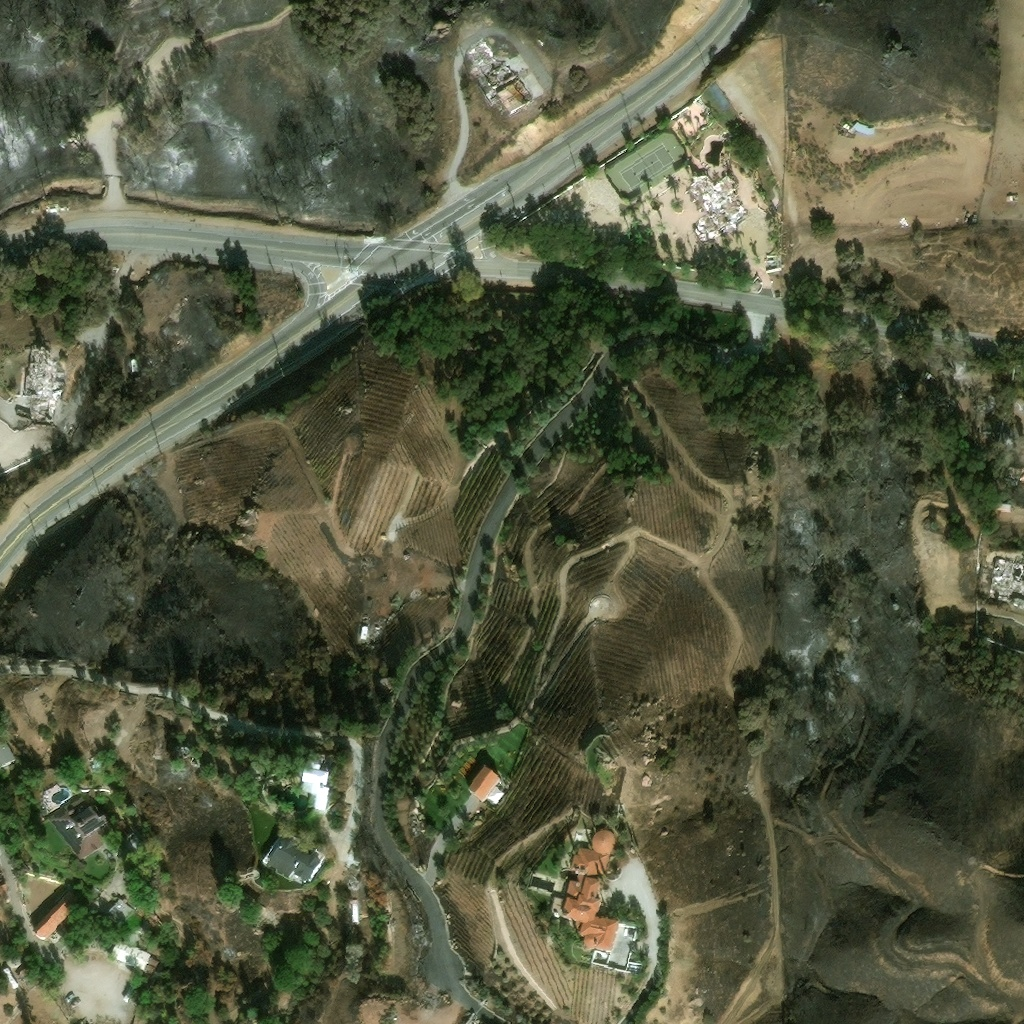0 no-damage: (561, 844, 618, 950), (47, 792, 117, 859), (257, 829, 327, 887), (32, 892, 79, 940), (110, 938, 158, 973), (465, 761, 504, 802), (301, 763, 330, 809), (105, 897, 134, 920), (591, 828, 614, 852), (54, 423, 75, 444), (0, 966, 19, 989), (0, 739, 15, 767), (346, 898, 362, 921), (4, 952, 22, 970), (850, 121, 873, 134), (14, 966, 29, 981), (39, 870, 57, 880), (358, 623, 369, 639), (997, 502, 1010, 510), (450, 696, 460, 704), (841, 122, 849, 129)
2 major-damage: (128, 356, 137, 372)
3 destroyed: (685, 171, 743, 240), (465, 37, 515, 89), (979, 553, 1023, 599), (20, 348, 57, 394), (495, 78, 531, 114), (966, 401, 990, 420), (68, 129, 84, 148), (33, 401, 49, 418), (361, 553, 374, 568), (1004, 467, 1014, 478), (531, 99, 540, 109), (535, 37, 544, 46)
4 un-classified: (715, 339, 738, 363), (887, 385, 902, 400), (929, 391, 949, 402), (682, 244, 690, 259), (1012, 598, 1023, 606)
